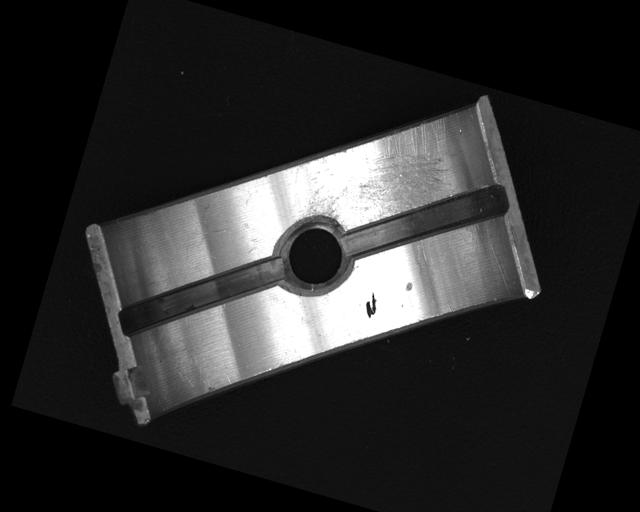blot: (361, 290, 381, 319)
bruise: (404, 280, 414, 293)
gap: (113, 219, 292, 373), (344, 149, 515, 292)
hole: (265, 209, 360, 302)
scratch: (299, 86, 469, 257)
